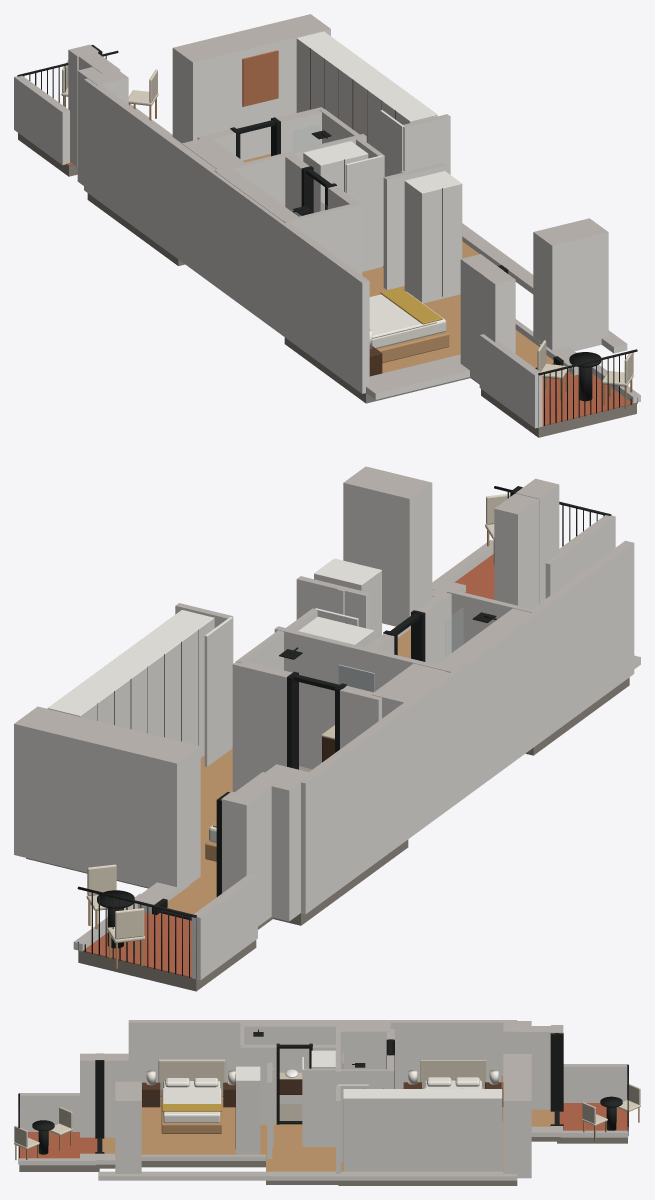
3 views of the same model, one above another, from view 1: azimuth 30°, elevation 25°; view 2: azimuth 150°, elevation 25°; view 3: azimuth 270°, elevation 25° (orthographic). The views are drawn at different scales.
Parts seen in each view (by area): view 1: Wall W-4, Wall N-eaves.001, Wall S-eaves.001, bed2 wardrobe 19 | body, bed3 wardrobe 30 | body, Wall dormer-S-W, Parapet 4, Parapet 1, suite-door door 0 | leaf, Wall landing-S, Wall ens3-S, Floor | bed3 (+24 smaller); view 2: Wall W-4, Wall N-eaves.001, bed2 wardrobe 19 | body, Wall S-eaves.001, Wall mid-4, Wall ens2-N.001, Wall dormer-S-W, Parapet 1, Wall N-eaves, mid-4 door 0 | leaf, Floor | bed2, Floor | varanda_n (+22 smaller); view 3: bed2 wardrobe 19 | body, Wall W-4, Wall E-party-4, Wall N-eaves.001, Floor | bed3, Wall mass-ens3, Wall dormer-S-W, Wall suite-door, Wall S-eaves.001, Parapet 1, Wall mass-ens2, bed3 wardrobe 30 | body (+39 smaller).
Boxes of the visible parts, x1,y1,x2,y2 form: Wall W-4: (84, 78, 369, 393); Wall N-eaves.001: (172, 14, 330, 160); Wall S-eaves.001: (533, 218, 608, 351); bed2 wardrobe 19 | body: (296, 31, 437, 151); bed3 wardrobe 30 | body: (404, 171, 462, 303); Wall dormer-S-W: (460, 254, 515, 382); Parapet 4: (479, 334, 542, 428); Parapet 1: (14, 75, 69, 165); suite-door door 0 | leaf: (345, 155, 382, 271); Wall landing-S: (383, 163, 445, 289); Wall ens3-S: (283, 203, 357, 271); Floor | bed3: (369, 286, 553, 373); Wall W-4: (301, 540, 634, 914); Wall N-eaves.001: (14, 706, 200, 887); bed2 wardrobe 19 | body: (47, 610, 214, 757); Wall S-eaves.001: (343, 466, 432, 626); Wall mid-4: (274, 626, 454, 769); Wall ens2-N.001: (232, 661, 292, 792); Wall dormer-S-W: (494, 478, 559, 608); Parapet 1: (191, 874, 257, 980); Wall N-eaves: (265, 764, 312, 921); mid-4 door 0 | leaf: (204, 616, 232, 766); Floor | bed2: (167, 748, 232, 914); Floor | varanda_n: (83, 912, 191, 977); bed2 wardrobe 19 | body: (343, 1089, 502, 1171); Wall W-4: (128, 1020, 517, 1099); Wall E-party-4: (98, 1171, 517, 1180); Wall N-eaves.001: (503, 1054, 531, 1178); Floor | bed3: (102, 1099, 267, 1158); Wall mass-ens3: (244, 1021, 335, 1103); Wall dormer-S-W: (80, 1053, 128, 1137); Wall suite-door: (303, 1068, 335, 1146); Wall S-eaves.001: (115, 1081, 141, 1173); Parapet 1: (563, 1064, 628, 1102); Wall mass-ens2: (340, 1022, 390, 1069); bed3 wardrobe 30 | body: (236, 1066, 260, 1154).
Bounding box in the file's own units: 4.83 × 2.32 × 15.39.
